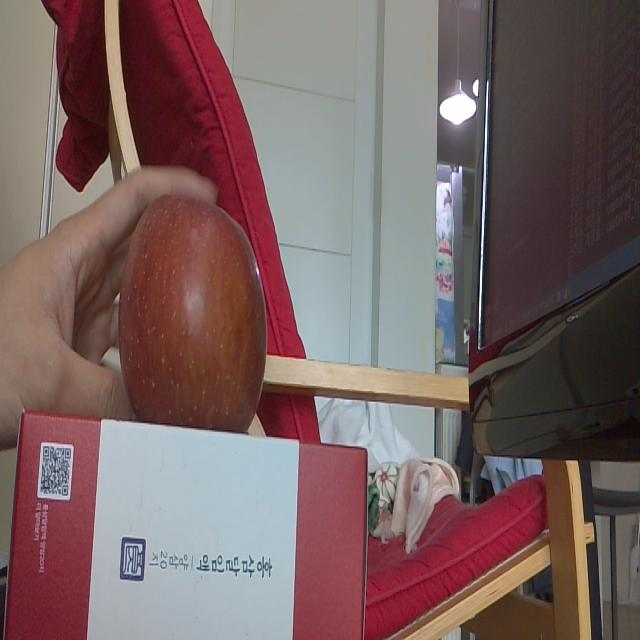apple: (117, 195, 271, 436)
